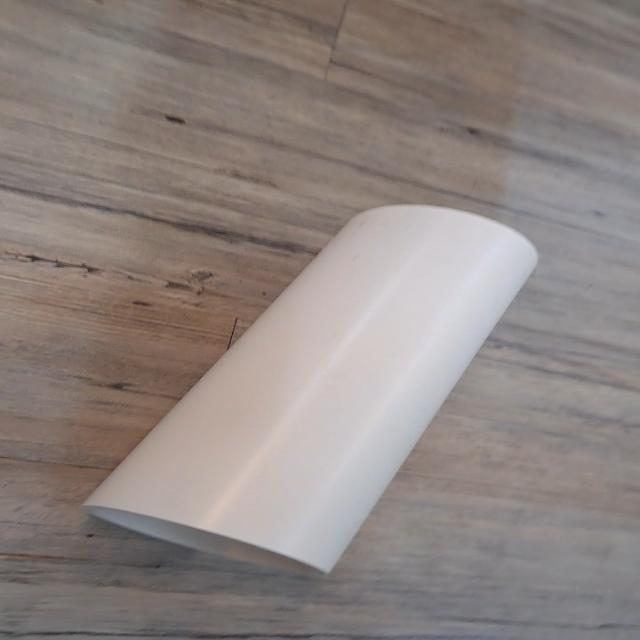CORAL: (51, 172, 561, 593)
